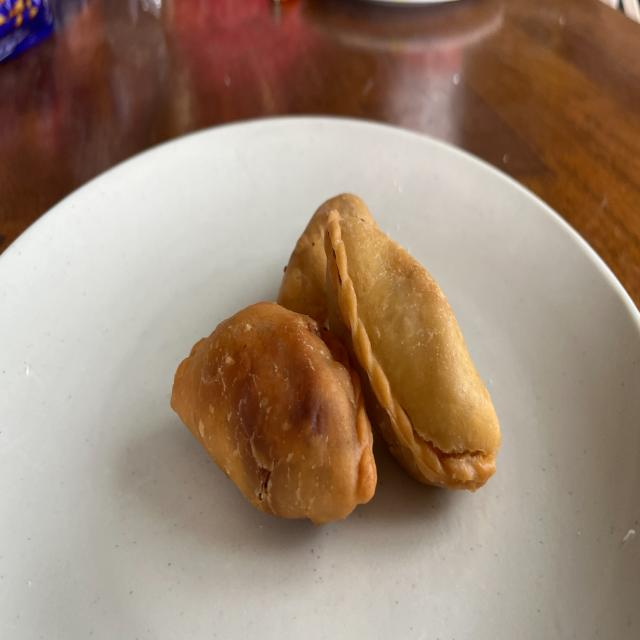karipap: (324, 198, 501, 491), (171, 302, 371, 524), (278, 193, 374, 324)
